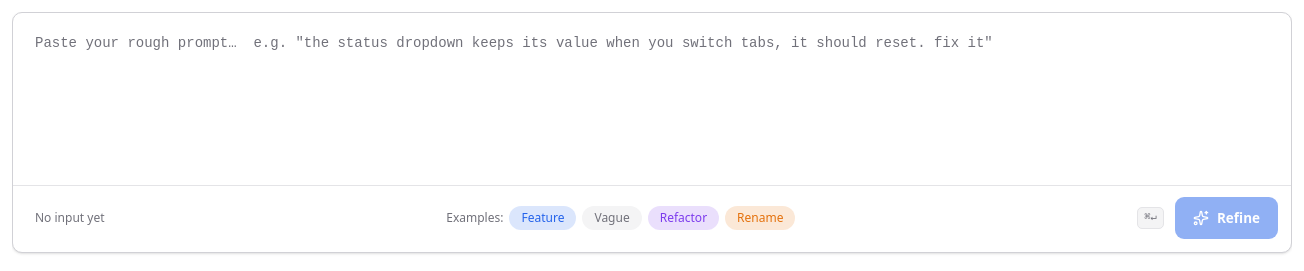
Scenario: PromptInput › updates counts as the user types
The width and height of the screenshot is (1304, 271).
Replace the text in the text box with "hello world" at (652, 99), box left=13, top=13, right=1291, bottom=185
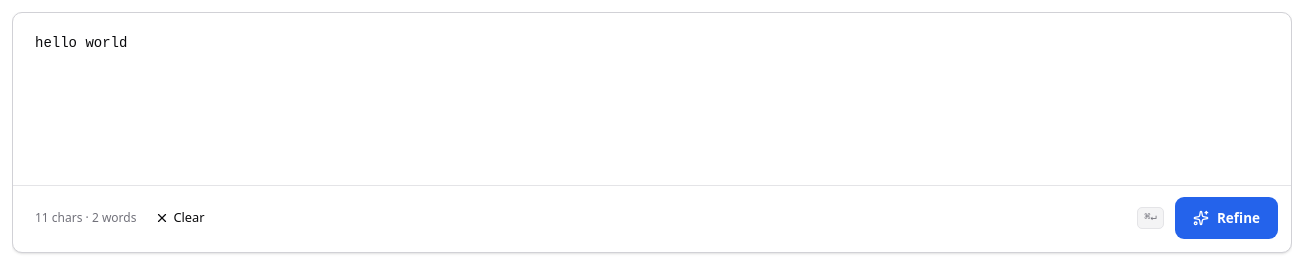
Result: the text "11 chars · 2 words" is shown at left=35, top=209, right=136, bottom=227
